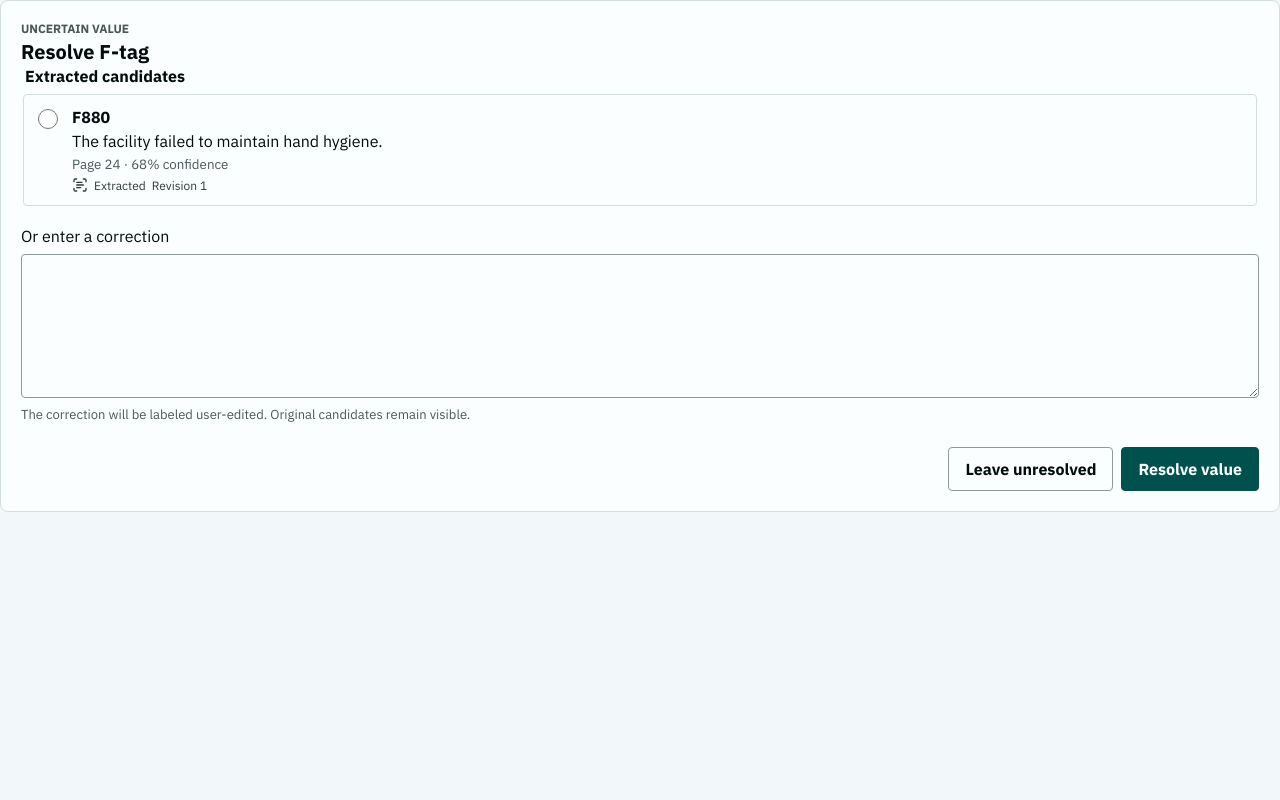
Test case: uncertainty resolution › retains correction input after a stale conflict
Type "F881" into the text box labelled "Or enter a correction" at (640, 326), box [21,254,1259,398]
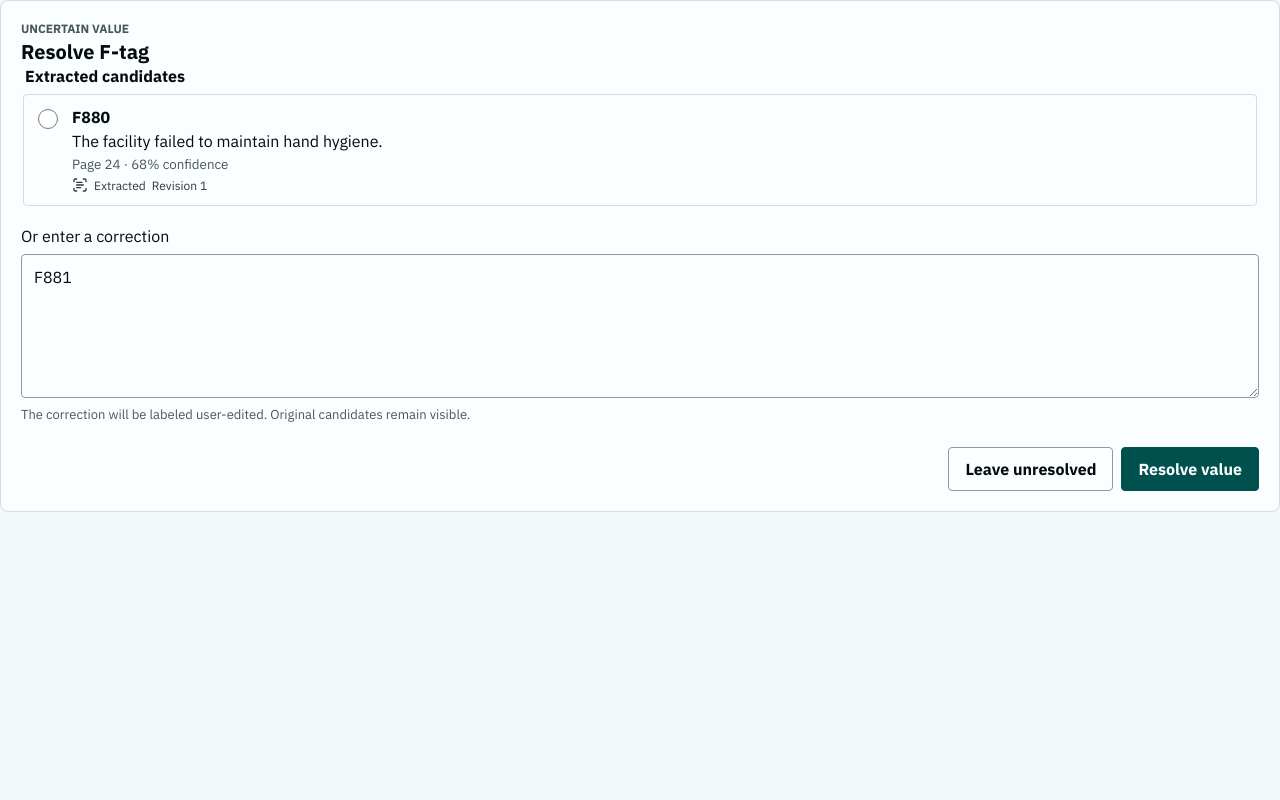
Click the button "Resolve value" at (1190, 469), box [1121,447,1259,491]
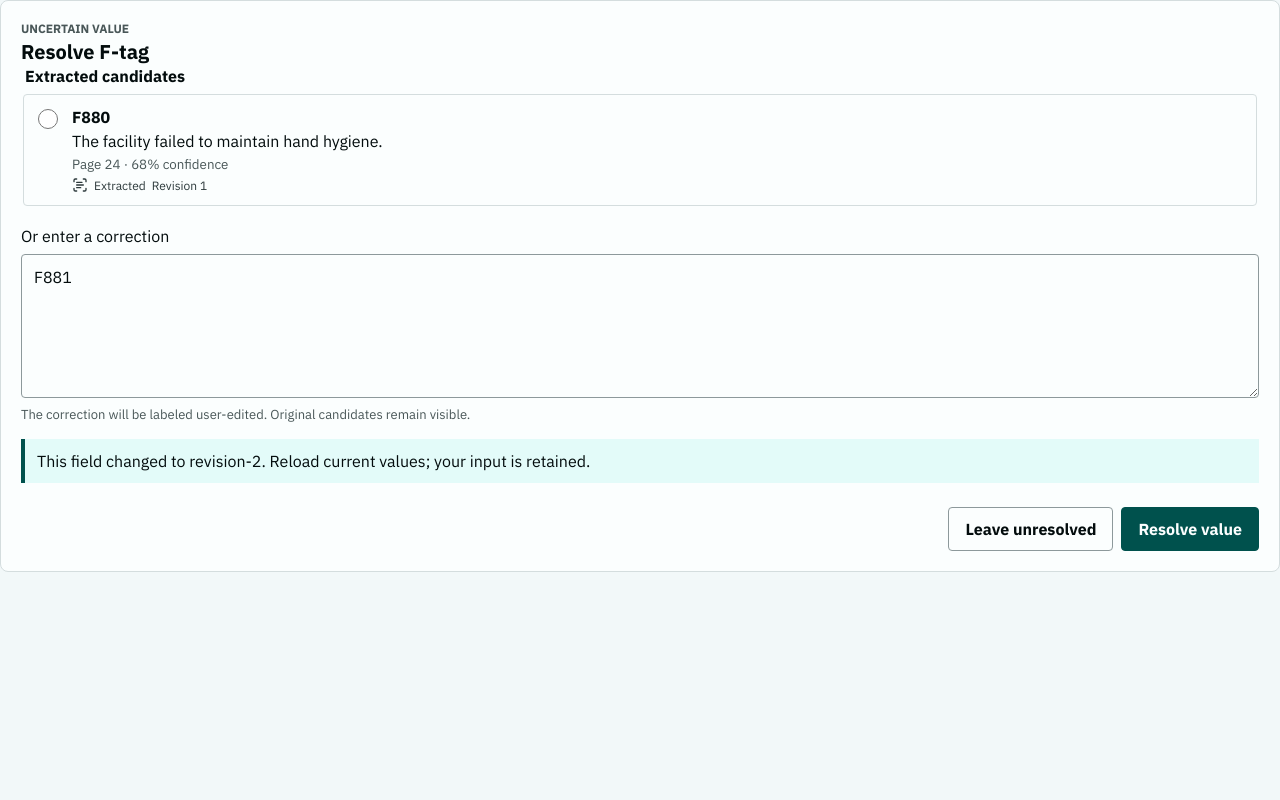
expect the text "Reload current values" is shown: met, box [37,451,590,471]
